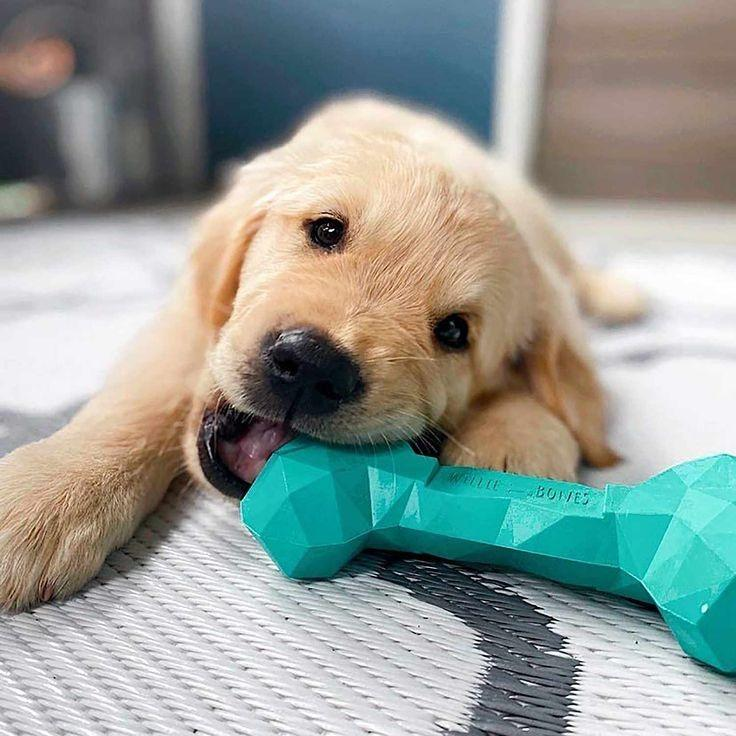puppy-dog: (0, 91, 654, 615)
